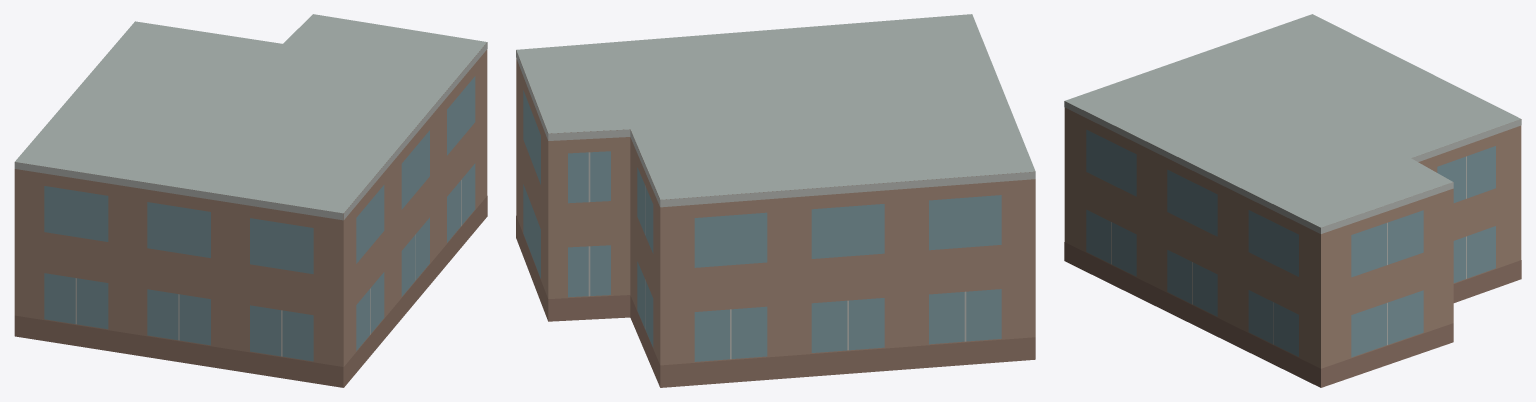
The model's file is survey-upis-32736811.glb.
3 views of the same model, side by side, from view 1: azimuth 30°, elevation 25°; view 2: azimuth 150°, elevation 25°; view 3: azimuth 270°, elevation 25° (orthographic). The views are drawn at different scales.
Parts seen in each view (by area): view 1: survey-upis-32736811.tmp; view 2: survey-upis-32736811.tmp; view 3: survey-upis-32736811.tmp.
Boxes of the visible parts, x1,y1,x2,y2 form: survey-upis-32736811.tmp: [14, 14, 487, 387]; survey-upis-32736811.tmp: [516, 14, 1035, 387]; survey-upis-32736811.tmp: [1064, 14, 1521, 387].
Bounding box in the file's own units: 17.48 × 6.1 × 15.79.
